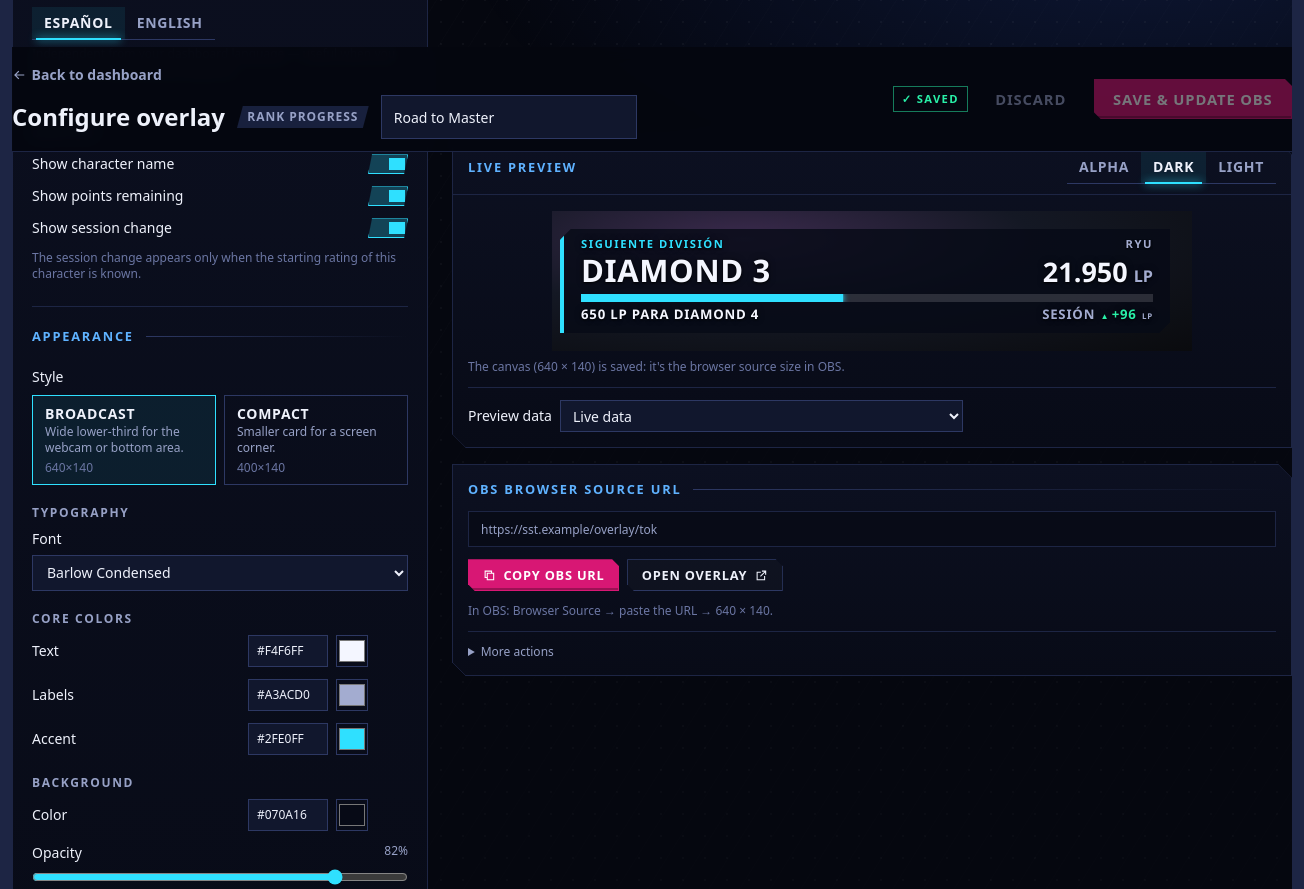
Test: editing, dirty state and save › a failed save keeps the edits and reports it
The image size is (1304, 889).
(page scrolled)
Click the radio button labelled "Compact Smaller card for a screen corner. 400×140": {"x": 316, "y": 440} x1=224 y1=395 x2=408 y2=485
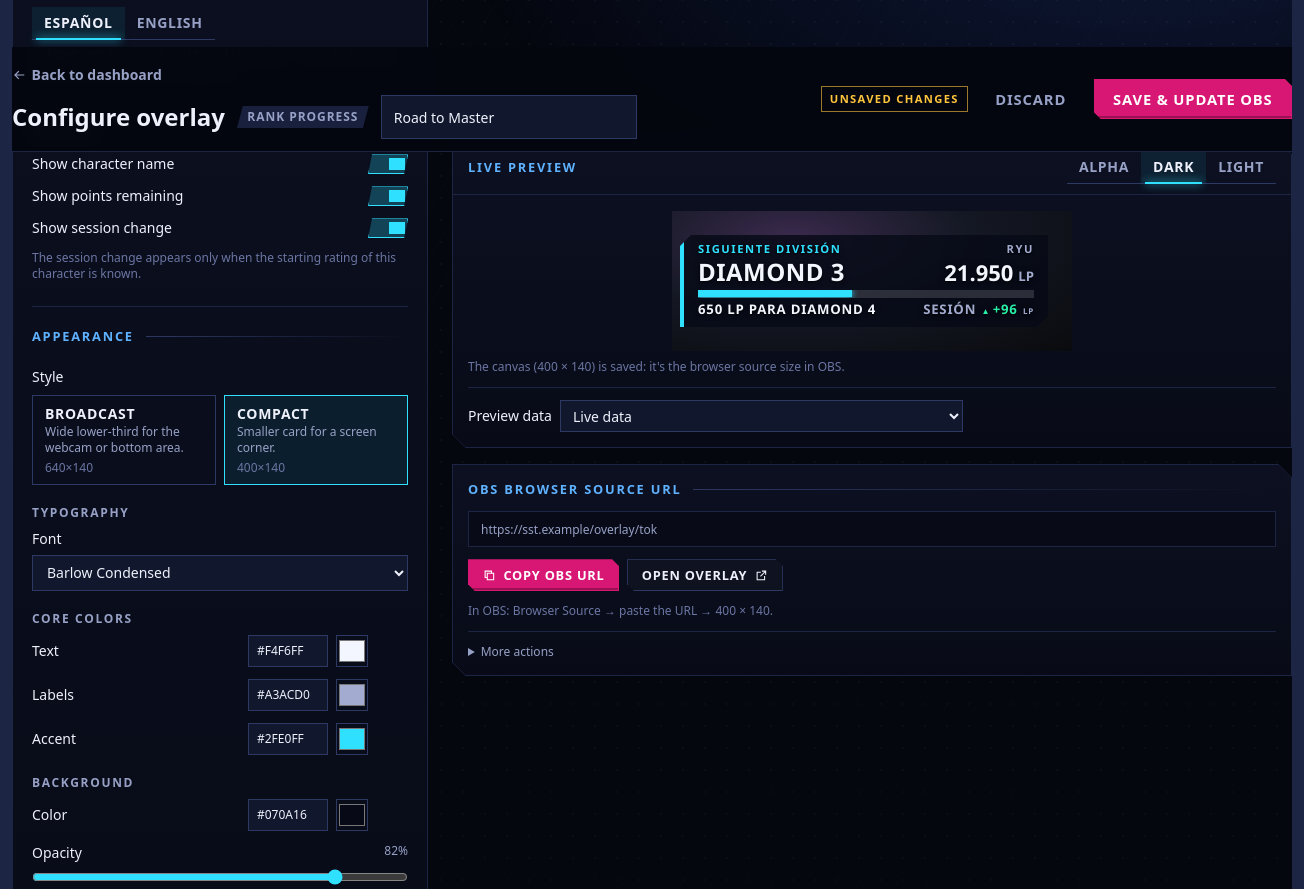
Click the button "Save & update OBS": {"x": 1193, "y": 99} x1=1094 y1=79 x2=1292 y2=119
(page scrolled)
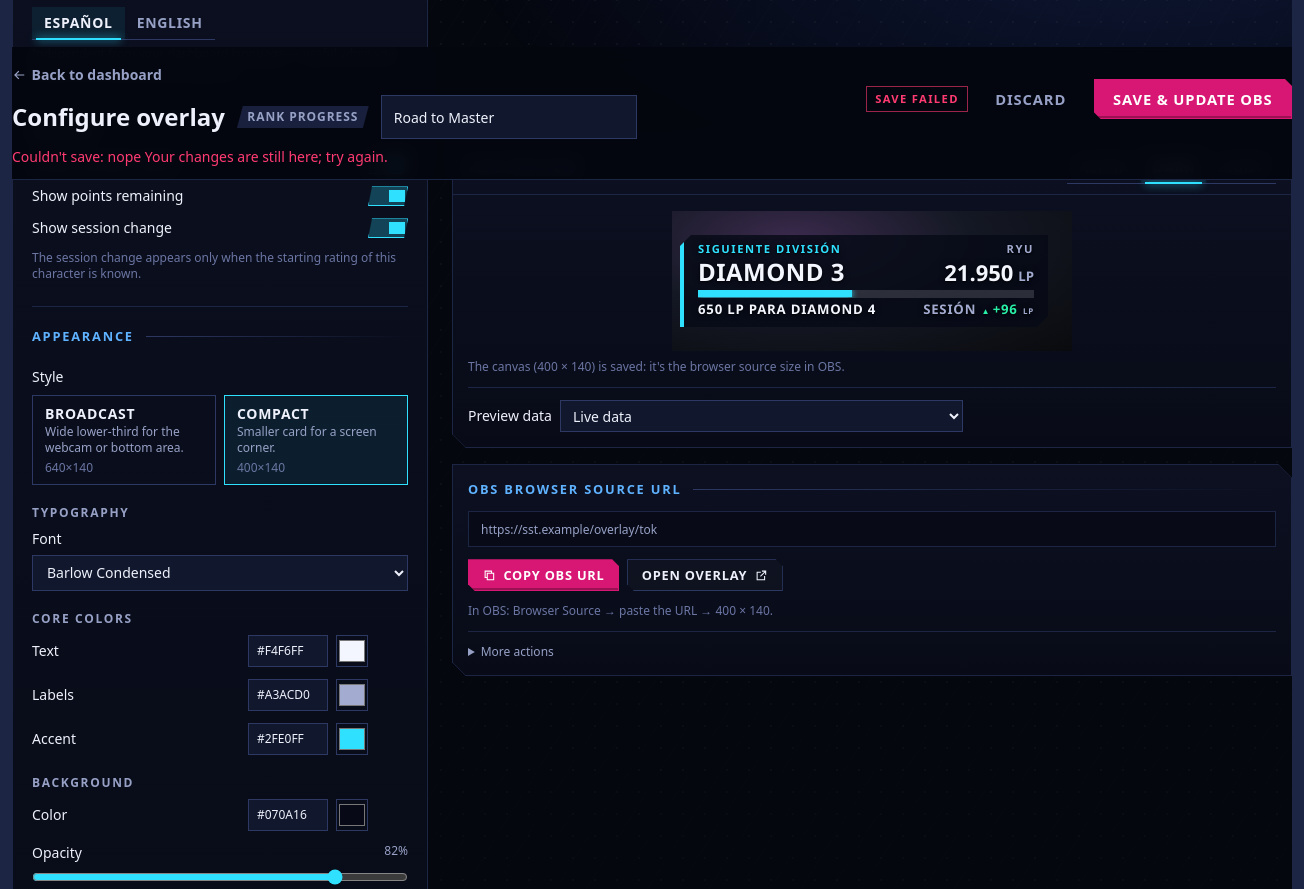
Expected: the message "Couldn't save: nope Your changes are still here; try again." is shown, x1=12 y1=147 x2=388 y2=166
